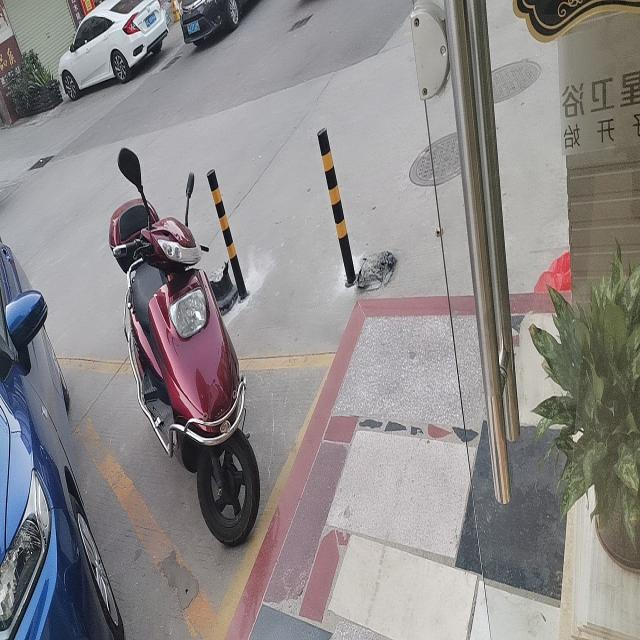car: (0, 238, 125, 639), (54, 0, 167, 101), (178, 0, 252, 45)
motorbike: (108, 145, 260, 547)
warning_column: (318, 125, 356, 287), (205, 166, 247, 299)
